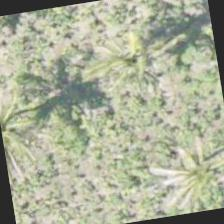Kelapa_Sawit: (84, 5, 187, 108), (140, 120, 223, 219)
